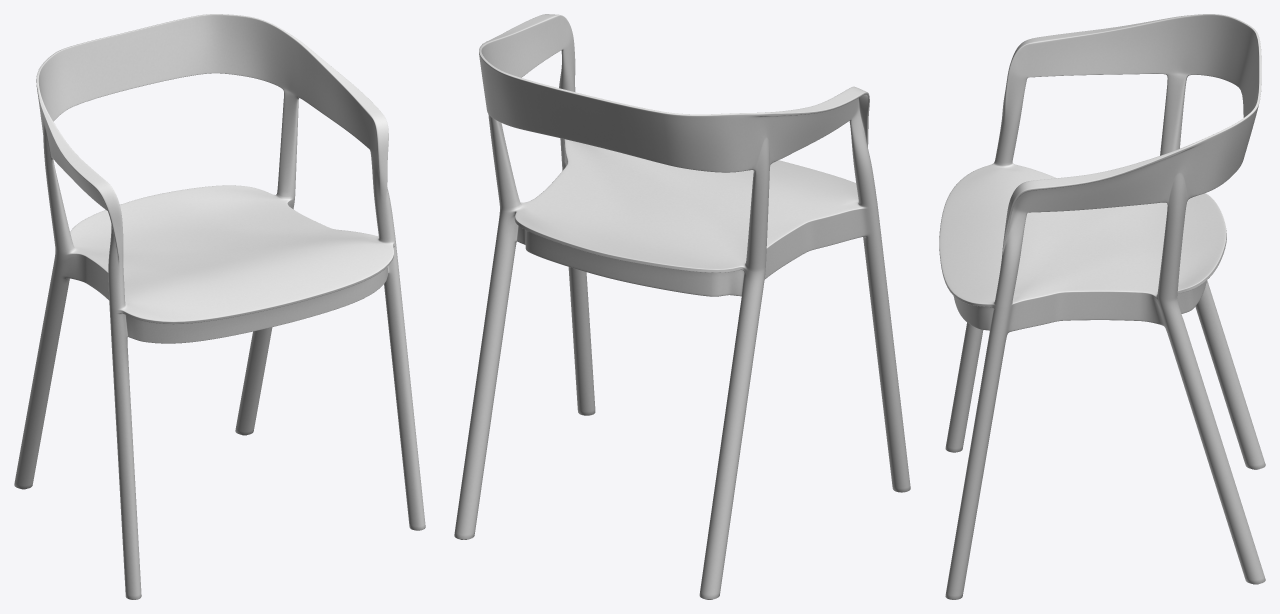
File: elsie_stackable_dining_chair_white.glb
3 renders of one model, left to right at view 1: azimuth 30°, elevation 25°; view 2: azimuth 150°, elevation 25°; view 3: azimuth 270°, elevation 25°, orthographic. The views are drawn at different scales.
Parts seen in each view (by area): view 1: Elsie_Stackable_Dining_Chair; view 2: Elsie_Stackable_Dining_Chair; view 3: Elsie_Stackable_Dining_Chair.
Part boxes in pixels (x1,y1,x2,y2): Elsie_Stackable_Dining_Chair: (14,14,425,599); Elsie_Stackable_Dining_Chair: (454,14,910,599); Elsie_Stackable_Dining_Chair: (939,14,1265,599).
Size of what is drawn, in the model's own units: 56.06 by 76.94 by 50.03.
Materials: 2 (2 with a texture image).
